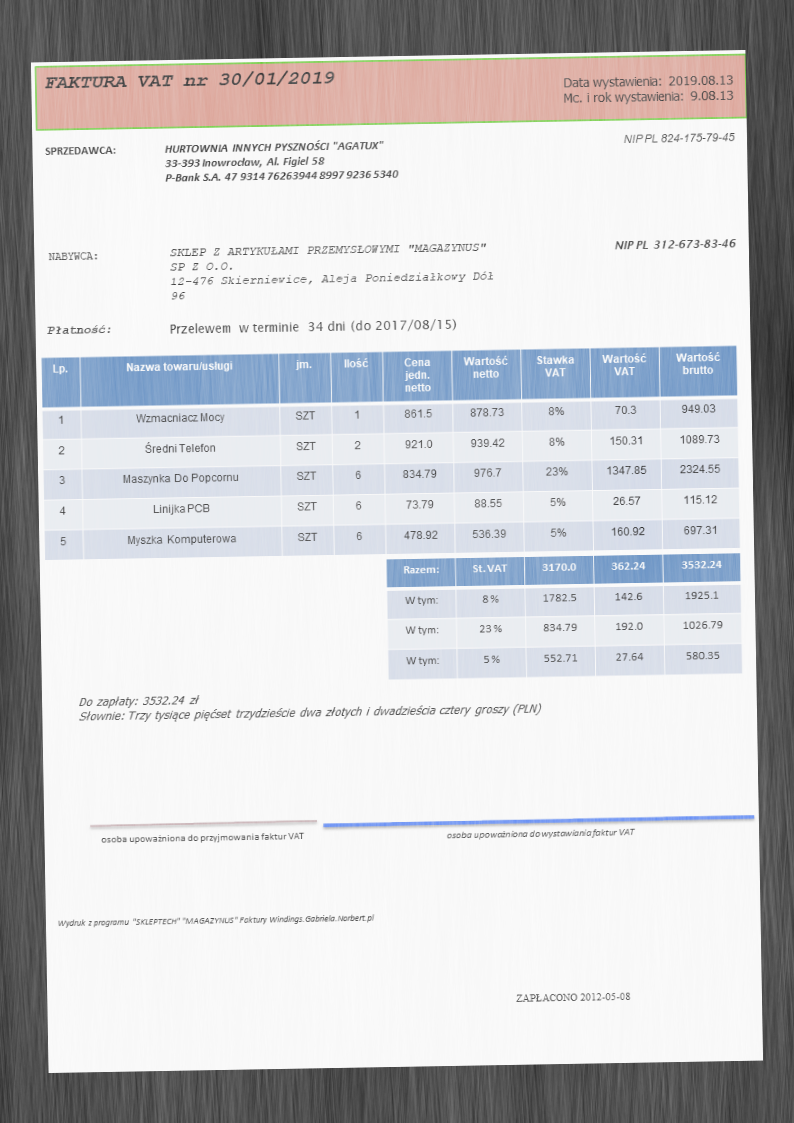Table: (40, 344, 742, 562), (385, 551, 744, 680), (76, 685, 543, 726)
TextBox: (166, 239, 497, 303), (162, 138, 400, 185), (42, 66, 336, 94), (55, 911, 376, 931), (167, 316, 458, 337), (560, 71, 736, 105), (98, 830, 306, 846), (444, 826, 637, 842), (611, 236, 738, 253), (621, 129, 736, 147), (514, 989, 632, 1004), (42, 143, 117, 159), (45, 321, 112, 338), (45, 248, 100, 262)
